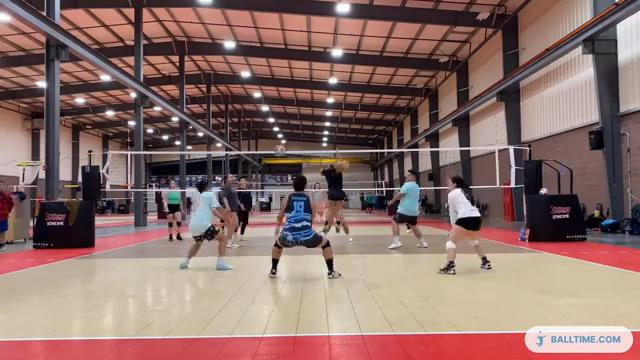Block: (313, 156, 356, 242)
Dig: (176, 177, 236, 271)
Player: (254, 174, 346, 280), (270, 175, 340, 278), (439, 175, 491, 274), (180, 181, 232, 269), (388, 170, 427, 248), (321, 160, 348, 233), (220, 175, 239, 247), (164, 180, 182, 240), (236, 176, 252, 240), (311, 182, 325, 221)
ball: (273, 144, 286, 157)
